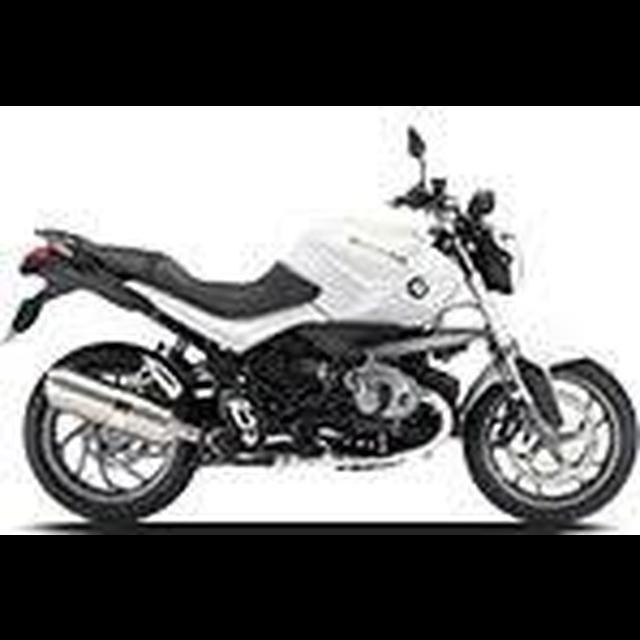motorcycle: (1, 117, 640, 525)
